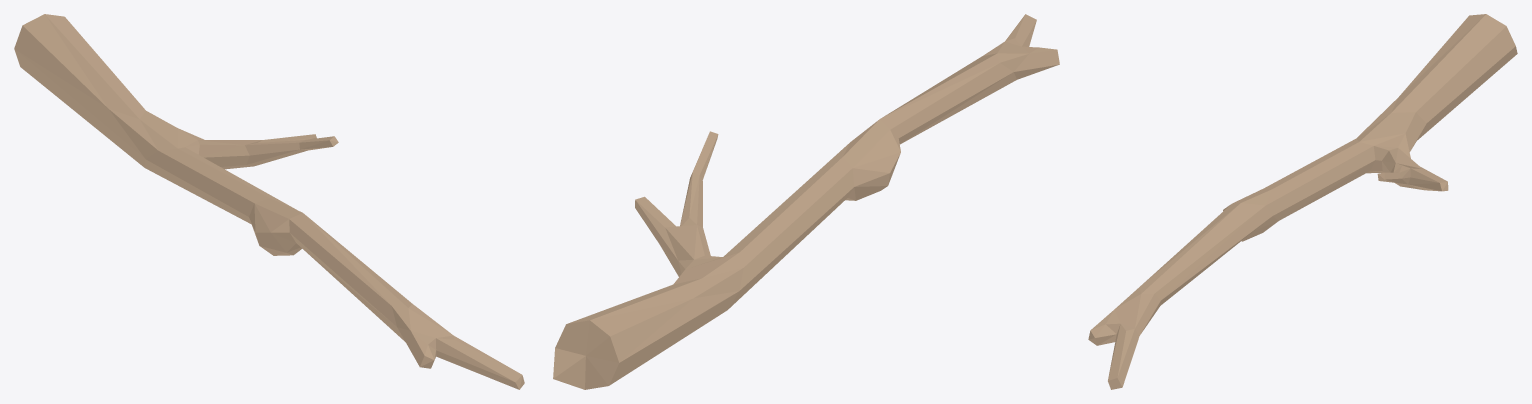
File: branch-pine.glb
3 renders of one model, left to right at view 1: azimuth 30°, elevation 25°; view 2: azimuth 150°, elevation 25°; view 3: azimuth 330°, elevation 25°, orthographic. The views are drawn at different scales.
Parts seen in each view (by area): view 1: Node; view 2: Node; view 3: Node.
Part boxes in pixels (x1=…): Node: x1=14, y1=14, x2=524, y2=389; Node: x1=553, y1=14, x2=1059, y2=389; Node: x1=1088, y1=14, x2=1517, y2=389.
Bounding box in the file's own units: 0.377 × 0.1854 × 2.02.
